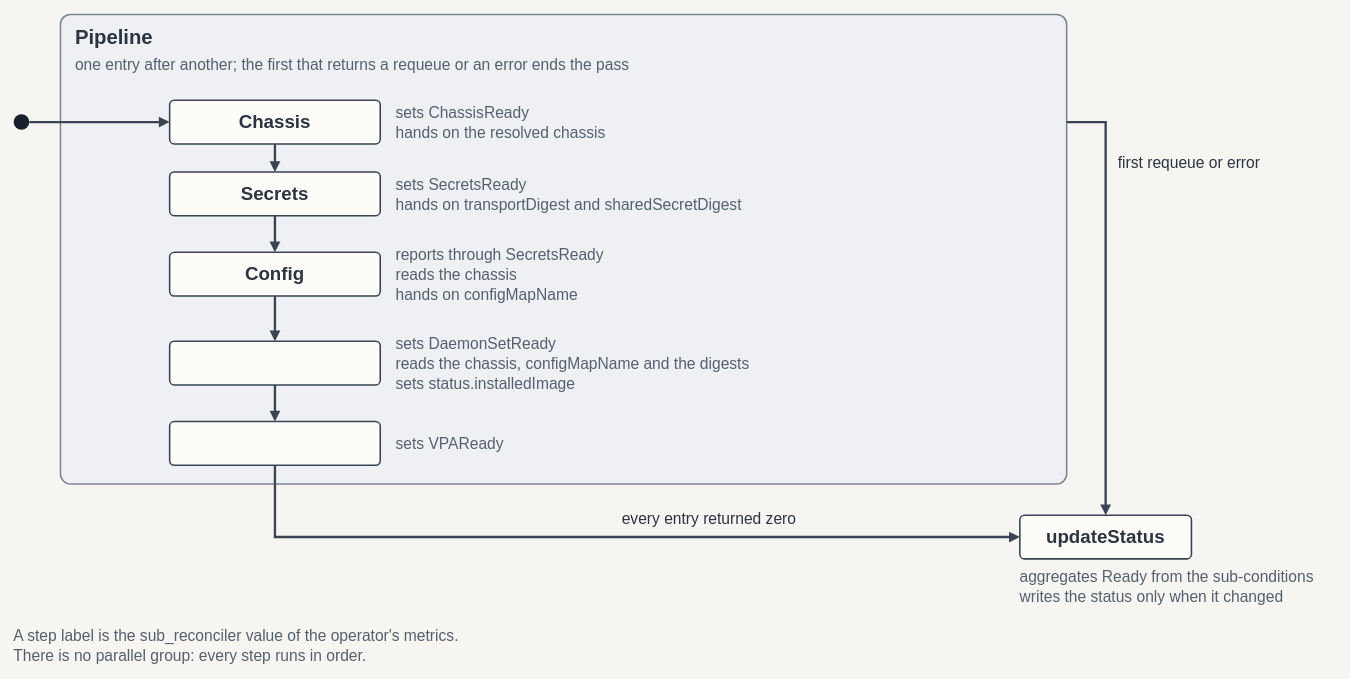
The diagram is 1350 pixels wide and 679 high, and some of its shapes have lost their labels. Each missing label, with the centre of its shape:
"AgentVPA" belongs at (x=274, y=443).
"DaemonSet" belongs at (x=274, y=362).
